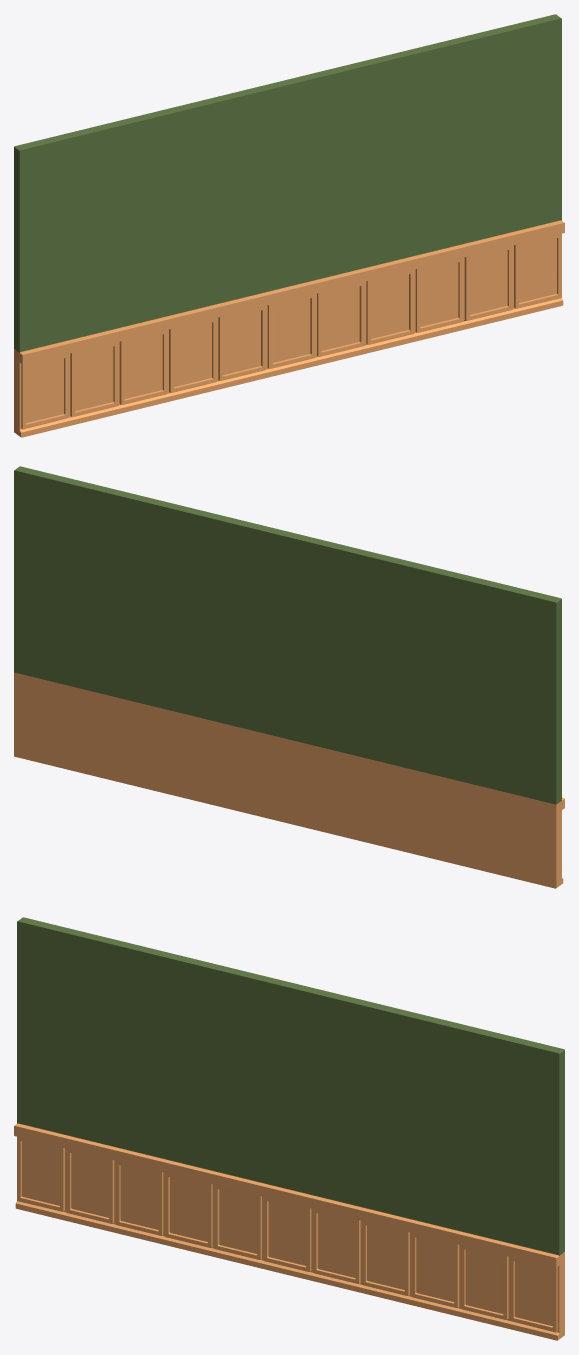
Rendered from duvar3.fbx.
3 renders of one model, top to bottom at view 1: azimuth 30°, elevation 25°; view 2: azimuth 150°, elevation 25°; view 3: azimuth 330°, elevation 25°, orthographic.
Visible parts, largest first — view 1: Cube.048; view 2: Cube.048; view 3: Cube.048.
Part boxes in pixels (<box>): Cube.048: <box>14,14,564,437</box>; Cube.048: <box>14,466,564,888</box>; Cube.048: <box>14,917,564,1340</box>.
Size of the model in its own units: 1889 by 53.11 by 953.
